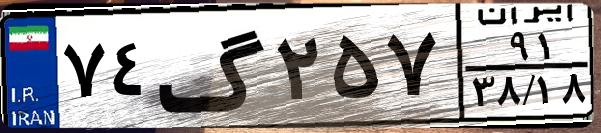1: (537, 27, 568, 80), (535, 70, 560, 125)
2: (270, 28, 330, 110)
3: (470, 70, 495, 125)
4: (110, 28, 156, 98)
5: (330, 28, 385, 110)
7: (385, 28, 445, 110), (57, 26, 110, 100)
8: (560, 70, 590, 125), (495, 70, 520, 125)
9: (508, 27, 537, 80)
گ: (156, 12, 270, 120)
